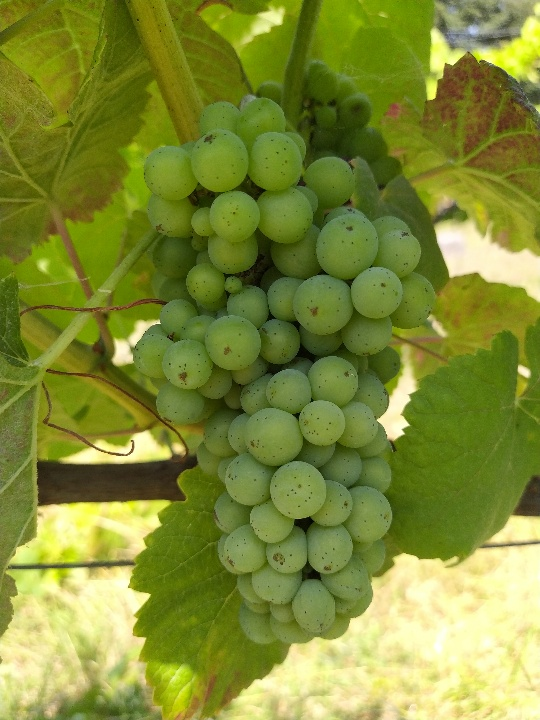grape: (131, 92, 437, 648)
